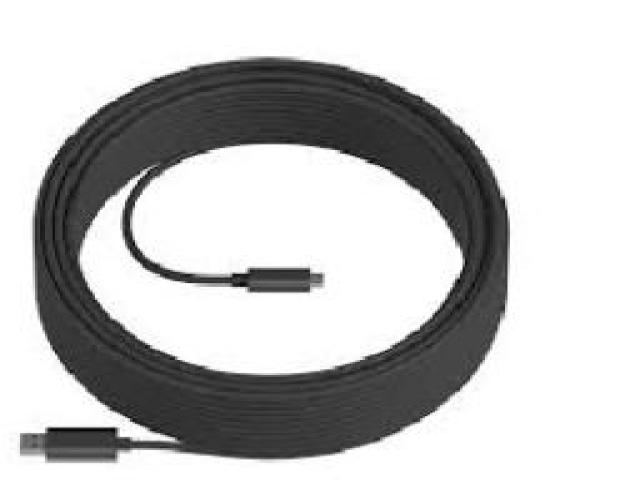wire: (21, 58, 508, 461)
